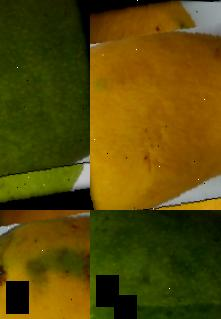Ripe: (90, 0, 221, 210), (0, 210, 90, 319)
Unripe: (0, 0, 90, 210), (90, 210, 221, 319)
